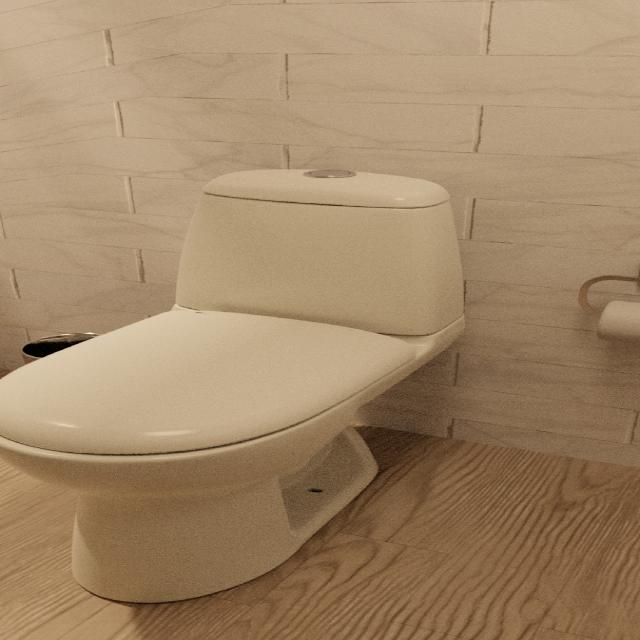toilet: (0, 167, 466, 603)
